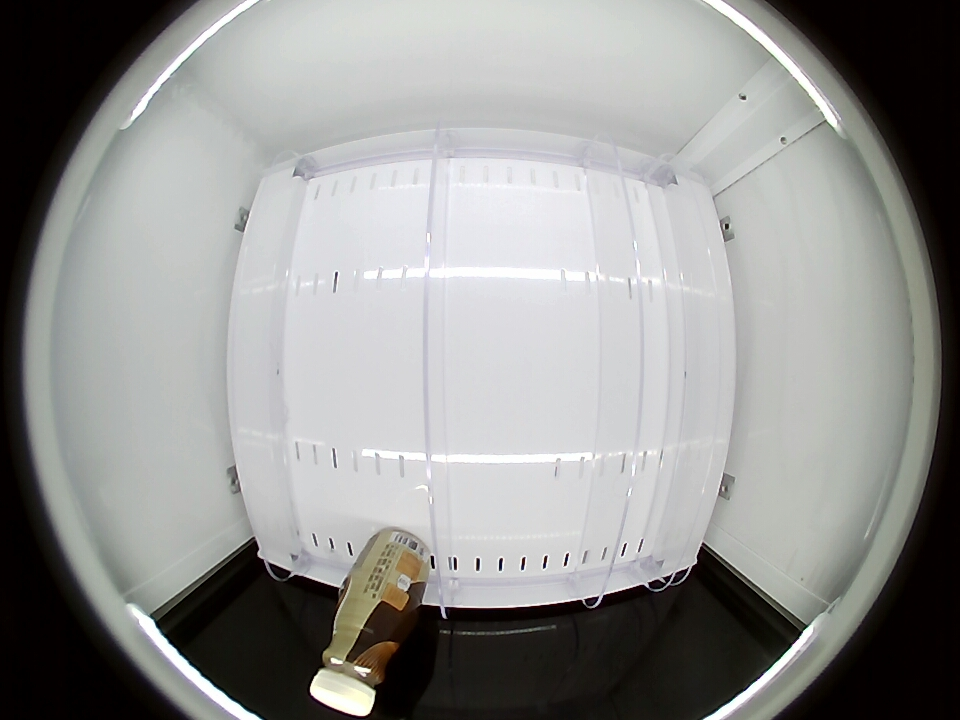kafei: (311, 603, 409, 717)
